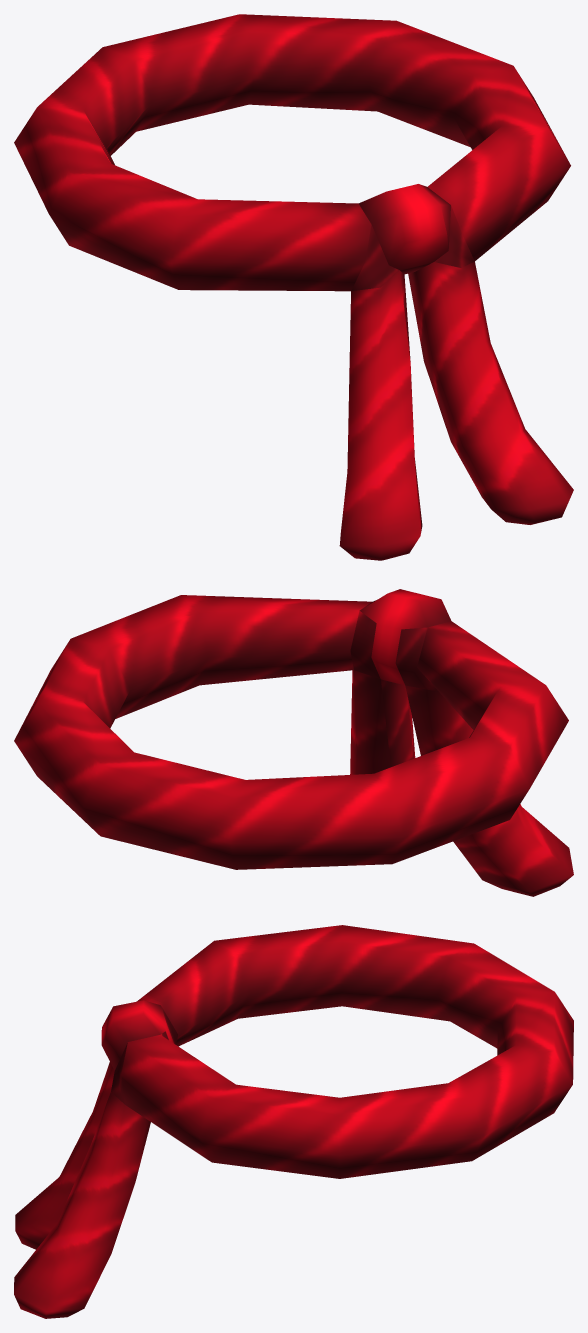
Rendered from Potion_A_S_String.fbx.
3 views of the same model, one above another, from view 1: azimuth 30°, elevation 25°; view 2: azimuth 150°, elevation 25°; view 3: azimuth 270°, elevation 25° (orthographic). The views are drawn at different scales.
Parts seen in each view (by area): view 1: Potion_A_S_String; view 2: Potion_A_S_String; view 3: Potion_A_S_String.
Boxes of the visible parts, box(x1,y1,x2,y2) form: Potion_A_S_String: box(14, 14, 573, 560); Potion_A_S_String: box(14, 589, 573, 896); Potion_A_S_String: box(14, 925, 573, 1318).
Size of the model in its own units: 25.05 by 15.56 by 28.62.
1 material, 1 textured.
